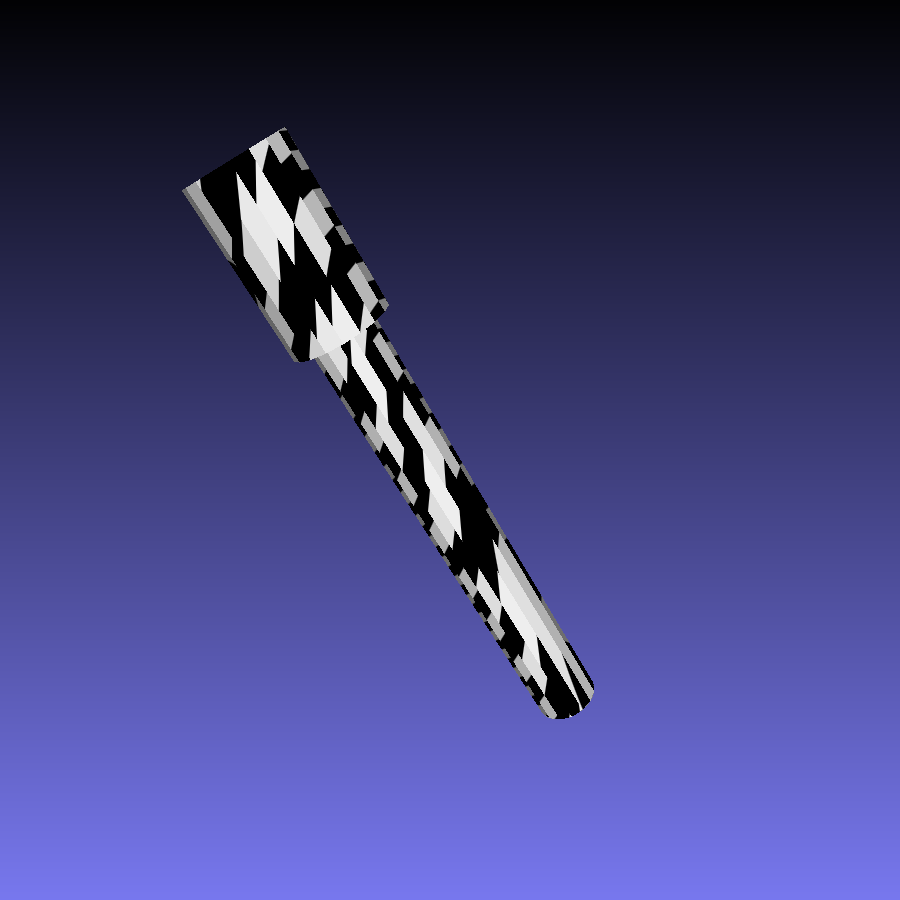cargo_g: (182, 122, 600, 721)
